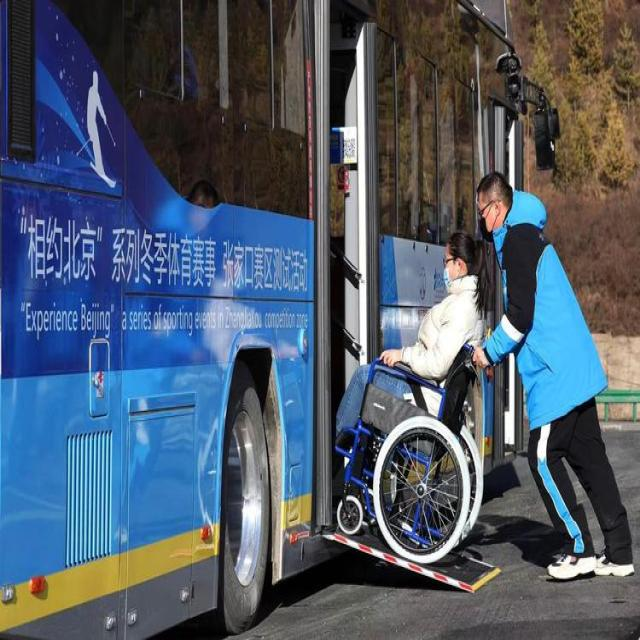wheelchairs: (330, 325, 492, 566)
